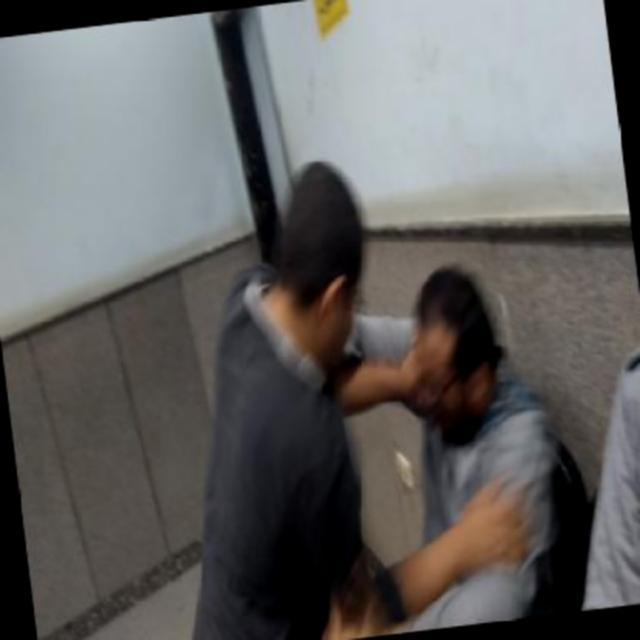fight: (172, 136, 577, 638)
